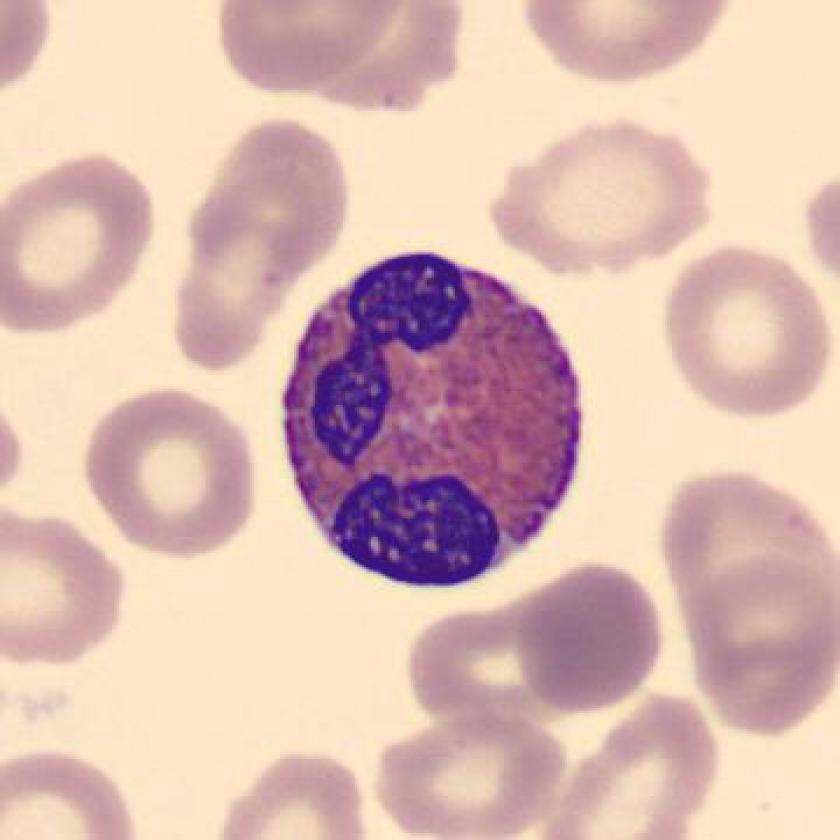eosinophil: (269, 242, 594, 605)
